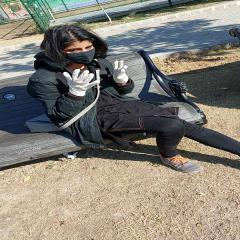gloved: (64, 69, 100, 95), (112, 60, 130, 84)
